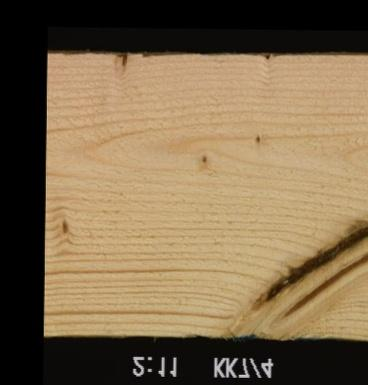edge_knot: (112, 50, 136, 76), (256, 52, 272, 63)
small_knot: (57, 214, 68, 239), (196, 149, 209, 167), (250, 131, 262, 144)
